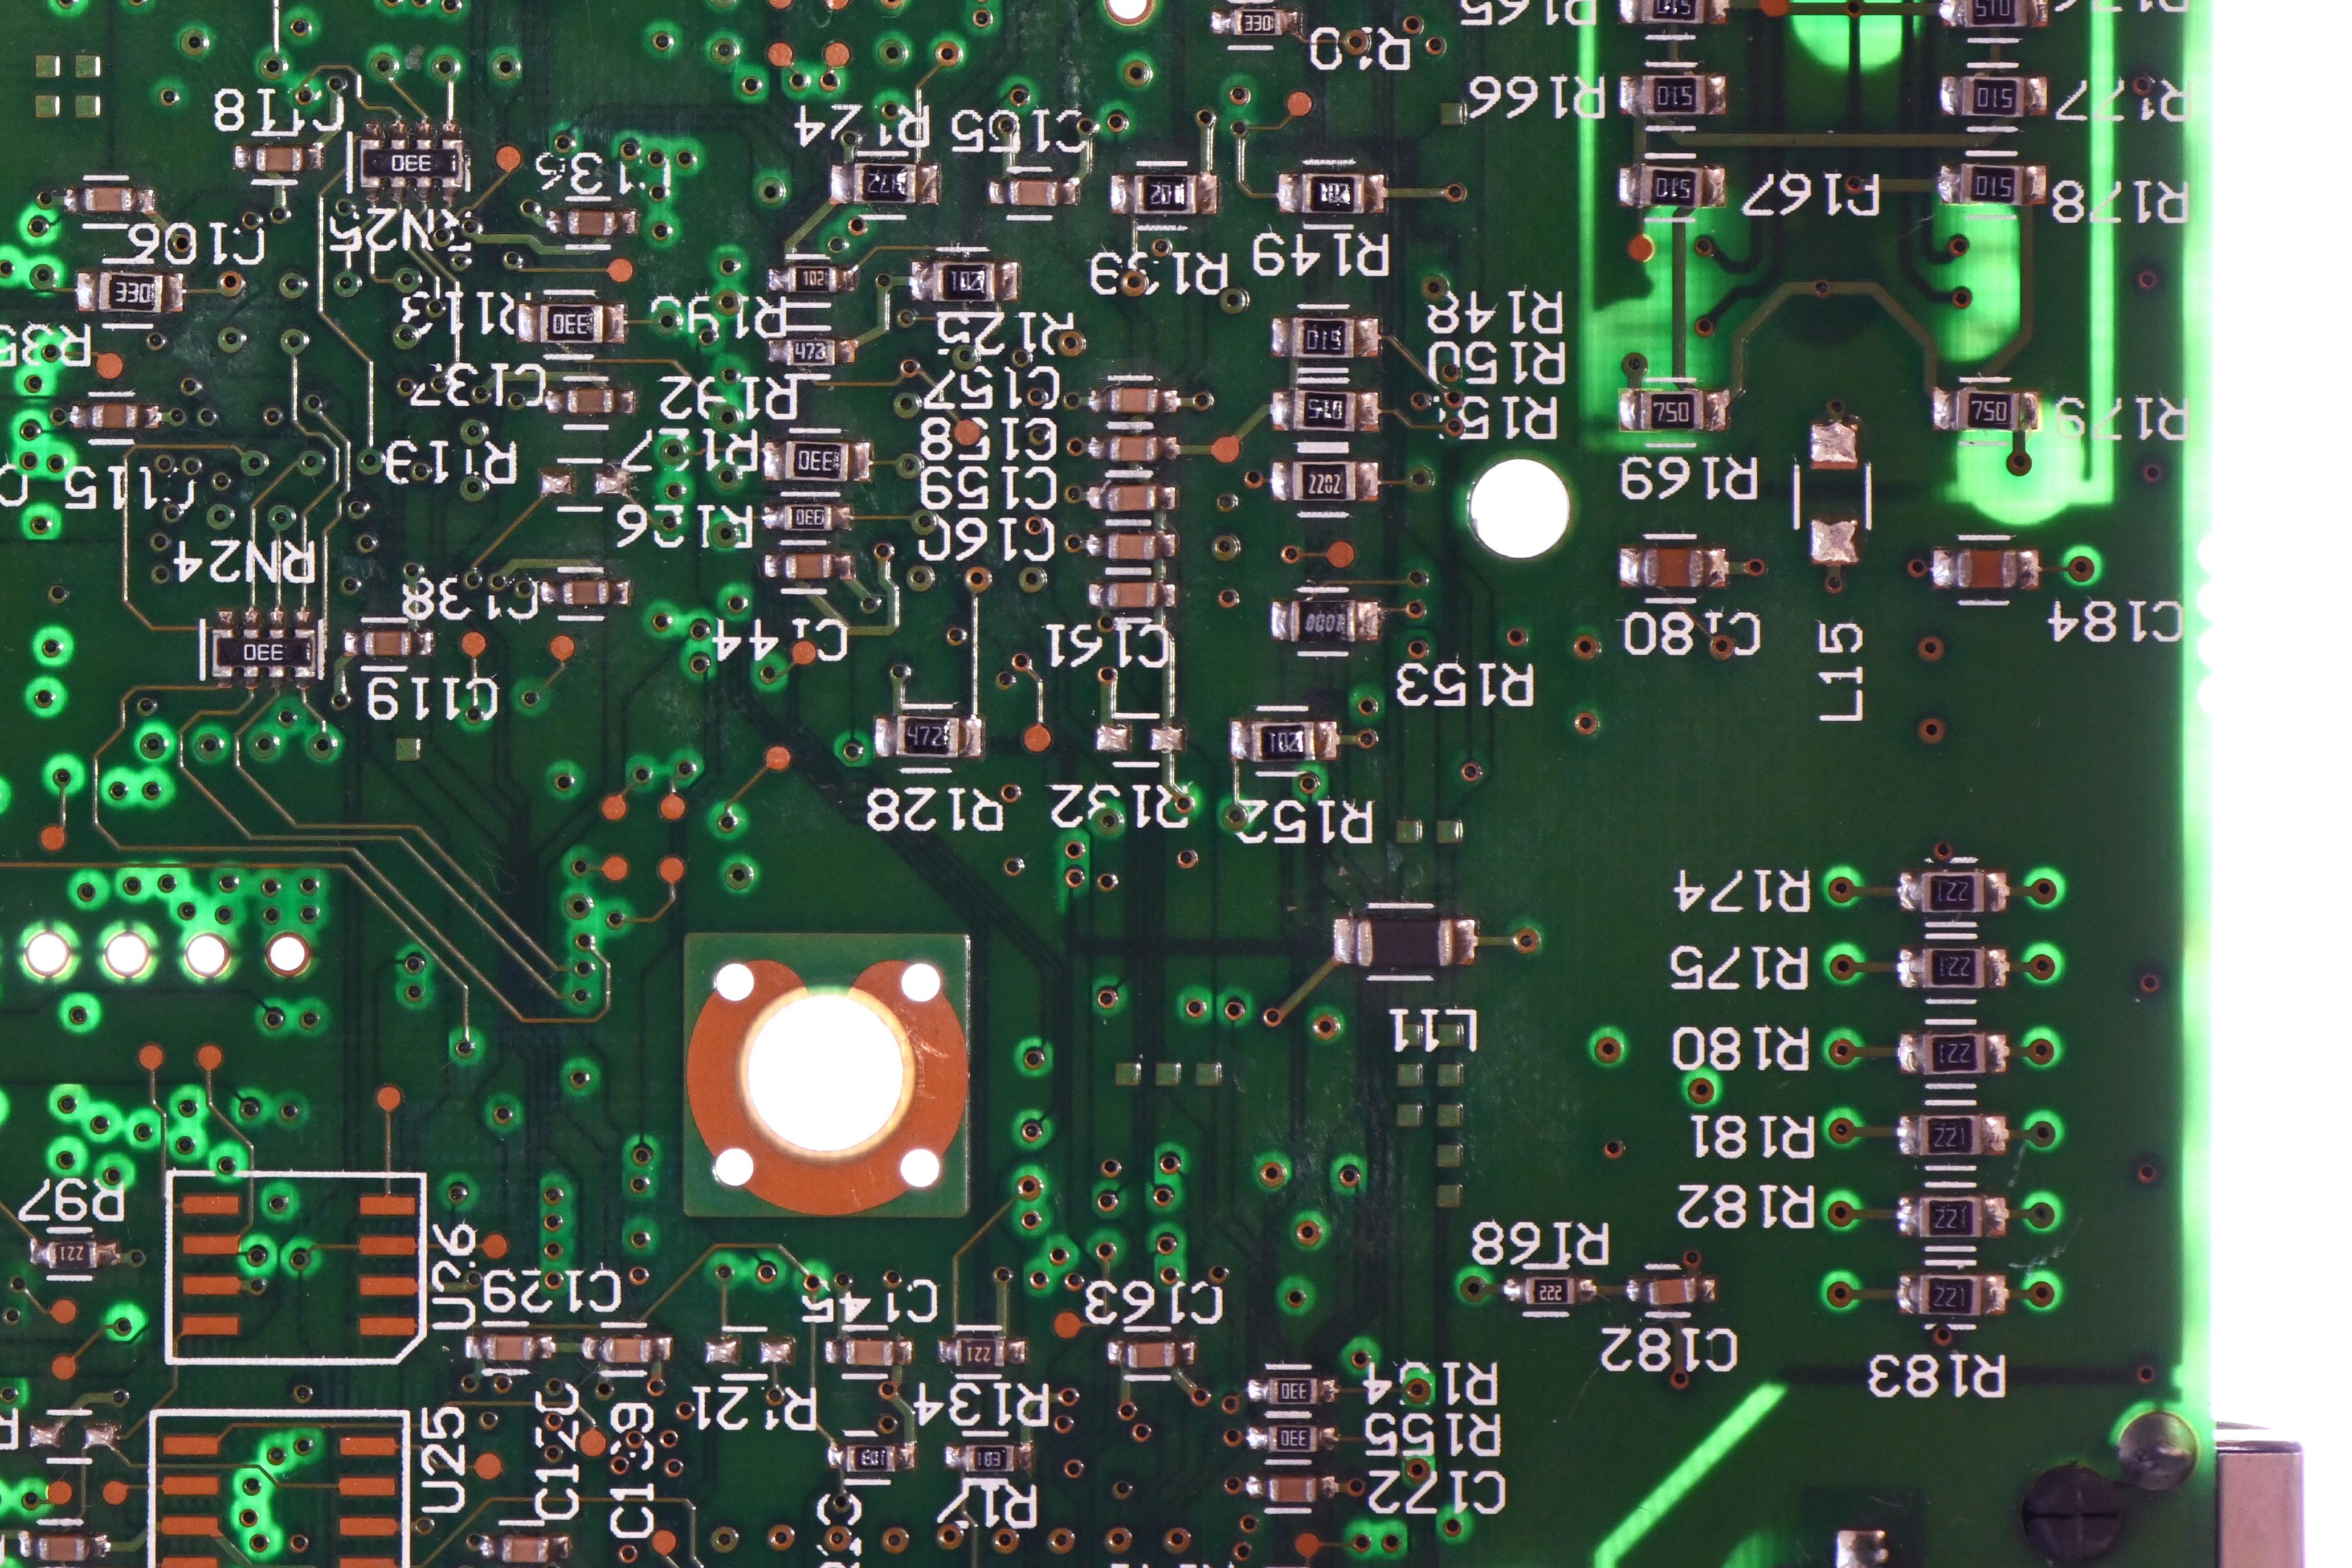capacitors: (1951, 543, 2023, 591), (1638, 539, 1706, 590), (1004, 173, 1064, 212), (1643, 1272, 1703, 1309), (1103, 576, 1162, 612), (79, 180, 138, 217), (562, 382, 618, 420), (480, 1330, 541, 1365), (840, 1333, 898, 1370), (494, 1531, 556, 1565), (359, 625, 415, 661), (86, 397, 142, 434), (1123, 1335, 1181, 1370), (779, 548, 837, 583), (1103, 529, 1160, 564), (1104, 431, 1162, 465), (1104, 382, 1162, 416), (1104, 480, 1160, 514), (562, 205, 620, 238), (600, 1332, 656, 1365), (1265, 1472, 1321, 1505), (33, 1529, 89, 1563), (250, 142, 306, 175), (558, 574, 612, 607)
inductors: (1353, 912, 1460, 973)
resistors: (355, 133, 467, 193), (208, 623, 320, 682), (1286, 383, 1363, 437), (1915, 865, 1992, 917), (1915, 942, 1992, 994), (1911, 1188, 1988, 1241), (1911, 1267, 1988, 1320), (1916, 1025, 1993, 1078), (1913, 1110, 1990, 1162), (1957, 156, 2028, 212), (1286, 593, 1360, 648), (93, 266, 168, 318), (777, 436, 854, 487), (534, 298, 611, 348), (893, 709, 964, 763), (1634, 159, 1706, 213), (1638, 68, 1710, 122), (1957, 68, 2028, 122), (847, 156, 921, 208), (1129, 166, 1200, 219), (1297, 166, 1369, 219), (1286, 312, 1358, 364), (1286, 455, 1360, 506), (1248, 716, 1321, 767), (927, 256, 999, 306), (1951, 383, 2023, 432), (1636, 387, 1706, 436), (1225, 0, 1288, 42), (1960, 0, 2033, 35), (1521, 1271, 1582, 1311), (949, 1332, 1010, 1372), (780, 332, 840, 373), (784, 259, 842, 299), (44, 1234, 103, 1272), (1264, 1418, 1323, 1456), (1264, 1370, 1323, 1409), (959, 1438, 1019, 1477), (780, 499, 838, 537), (842, 1438, 900, 1477), (1636, 0, 1710, 30)
